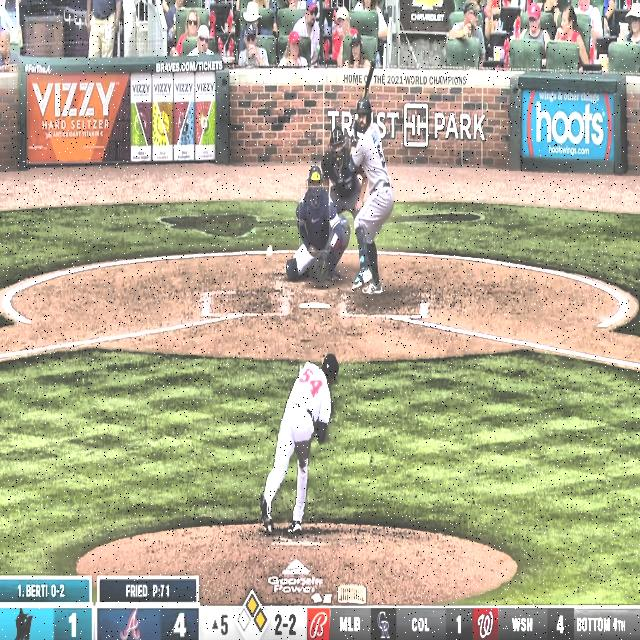baseball: (267, 245, 272, 257)
